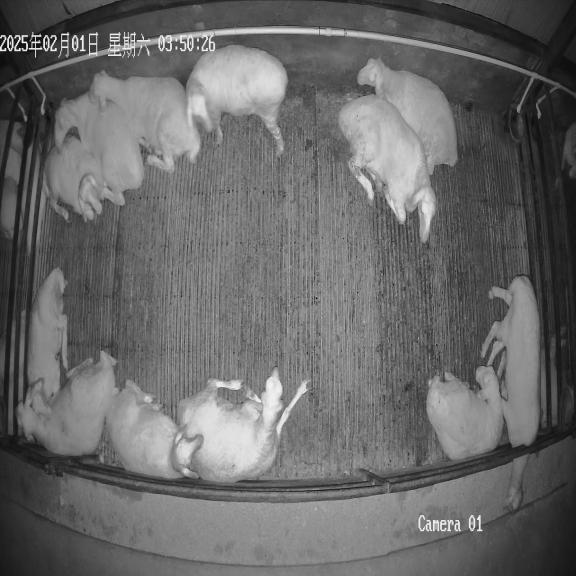eating: (481, 275, 541, 511)
lying: (179, 368, 307, 482), (338, 94, 436, 242), (357, 58, 457, 174), (89, 71, 200, 172), (18, 351, 116, 456), (54, 92, 144, 206), (106, 380, 202, 479), (426, 366, 504, 460), (21, 268, 68, 414), (44, 134, 117, 221)
stand: (186, 45, 288, 155)
